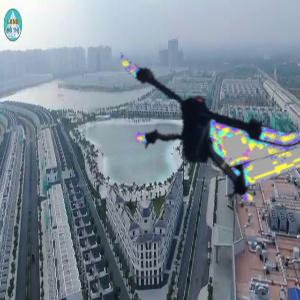drone: (104, 25, 296, 217)
